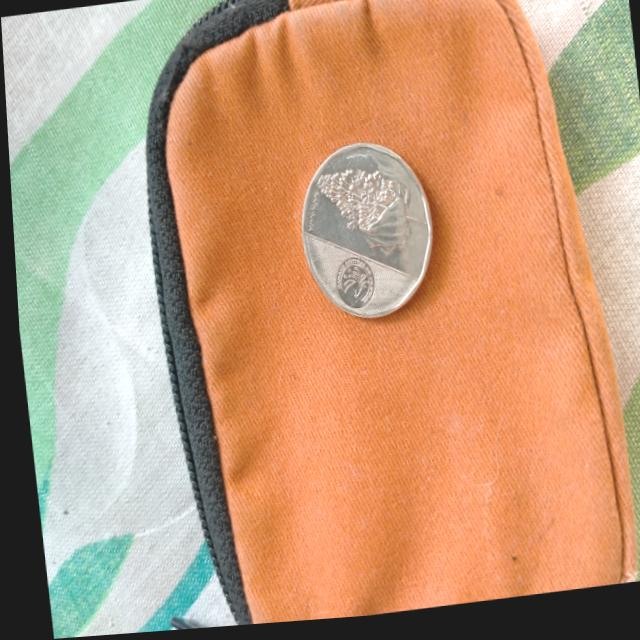10_New_Back: (306, 167, 422, 272)
